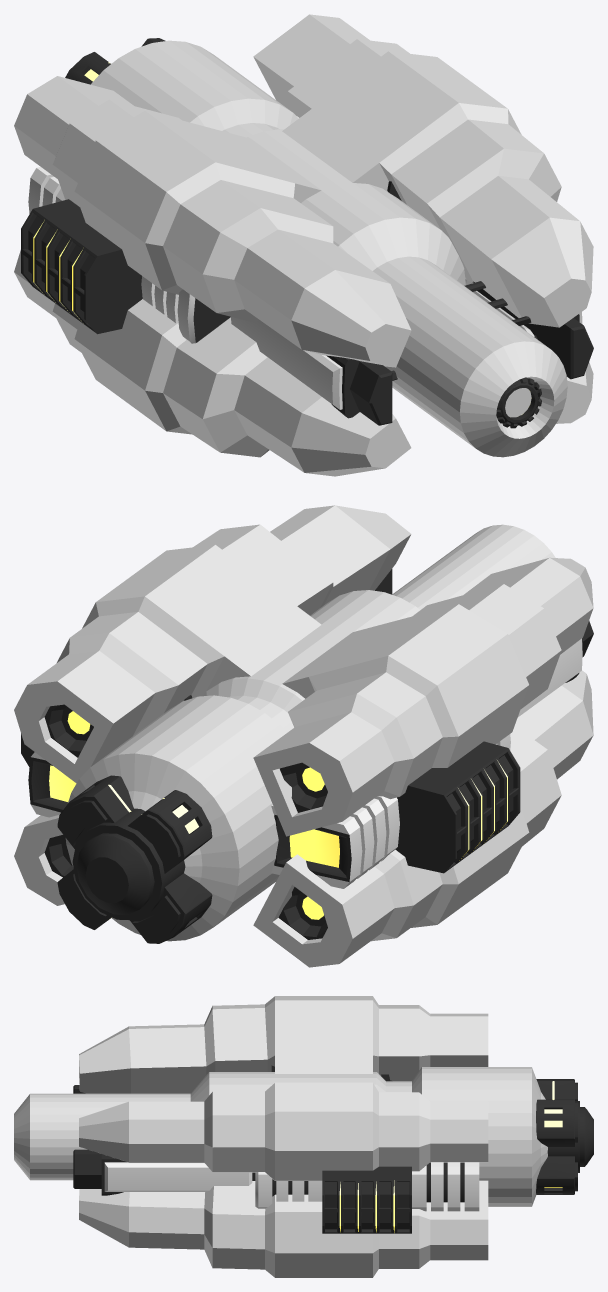
File: 01_ship_capital_untresnafol.glb
3 renders of one model, top to bottom at view 1: azimuth 30°, elevation 25°; view 2: azimuth 150°, elevation 25°; view 3: azimuth 270°, elevation 25°, orthographic. The views are drawn at different scales.
Visible parts, largest first — view 1: 01_ship_capital_untresnafol_aegis, 01_ship_capital_untresnafol_mk1, 01_ship_capital_untresnafol; view 2: 01_ship_capital_untresnafol_aegis, 01_ship_capital_untresnafol_mk1, 01_ship_capital_untresnafol, 01_ship_capital_untresnafol_solo_mk2; view 3: 01_ship_capital_untresnafol_aegis, 01_ship_capital_untresnafol_mk1.
Boxes of the visible parts, <box> form: 01_ship_capital_untresnafol_aegis: <box>14,14,593,476</box>; 01_ship_capital_untresnafol_mk1: <box>21,38,593,425</box>; 01_ship_capital_untresnafol: <box>387,181,541,428</box>; 01_ship_capital_untresnafol_aegis: <box>14,505,593,967</box>; 01_ship_capital_untresnafol_mk1: <box>21,569,593,943</box>; 01_ship_capital_untresnafol: <box>44,704,327,939</box>; 01_ship_capital_untresnafol_solo_mk2: <box>58,797,183,942</box>; 01_ship_capital_untresnafol_aegis: <box>14,996,547,1277</box>; 01_ship_capital_untresnafol_mk1: <box>73,1074,593,1233</box>.
Size of the model in its own units: 0.6601 by 0.3988 by 1.1.
